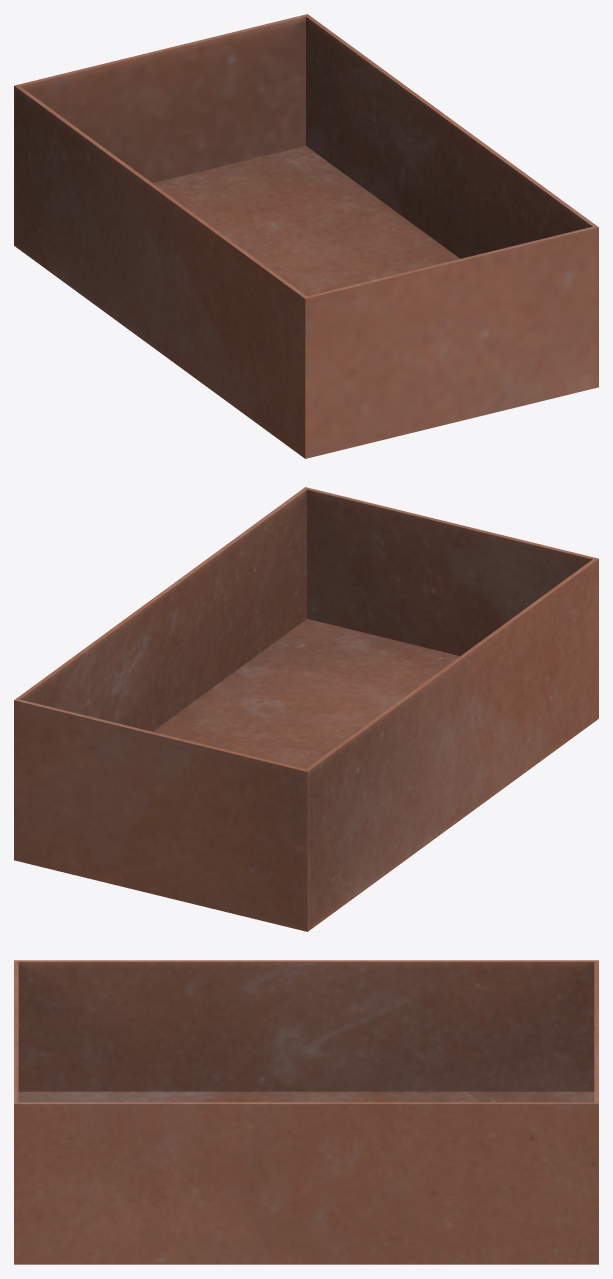
The picture shows the model from 3 angles, top to bottom: view 1: azimuth 30°, elevation 25°; view 2: azimuth 150°, elevation 25°; view 3: azimuth 270°, elevation 25°; orthographic projection.
Visible parts, largest first — view 1: SM_Box_5_LOD0; view 2: SM_Box_5_LOD0; view 3: SM_Box_5_LOD0.
Part boxes in pixels (left/top/right/bottom): SM_Box_5_LOD0: left=14, top=14, right=598, bottom=458; SM_Box_5_LOD0: left=14, top=487, right=598, bottom=931; SM_Box_5_LOD0: left=14, top=960, right=598, bottom=1264.
Bounding box in the file's own units: 19.22 × 33.02 × 10.01.
1 material, 1 textured.
